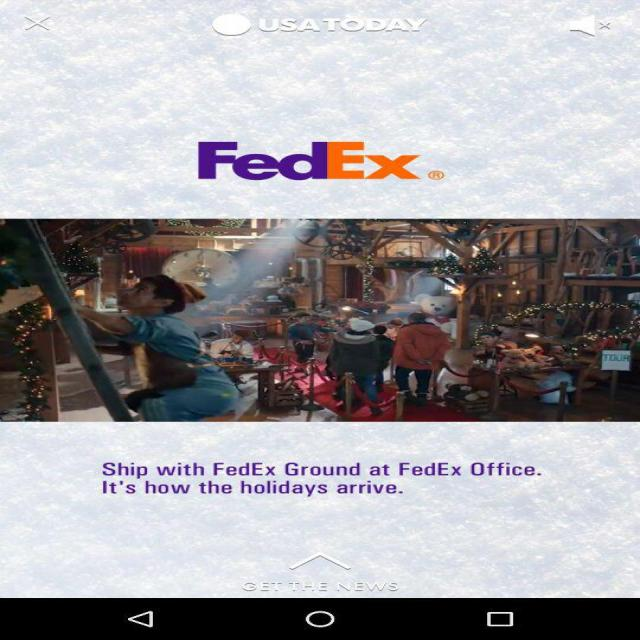image: (0, 205, 640, 423)
text: (69, 425, 577, 521)
